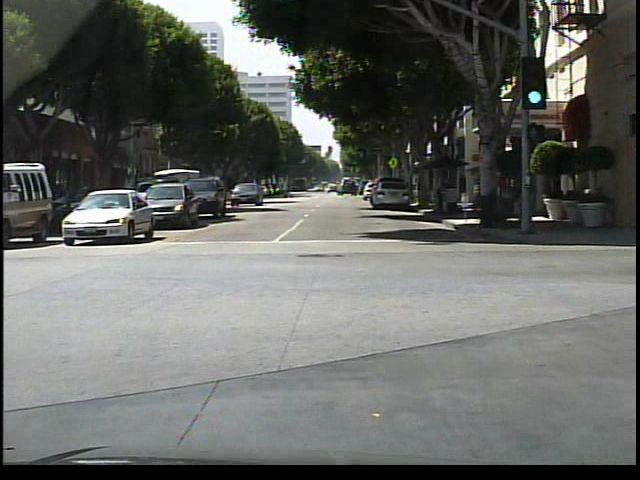person: (518, 162, 535, 232), (435, 171, 450, 217), (282, 184, 291, 200)
